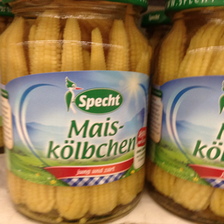corn: (1, 1, 152, 224), (148, 1, 224, 221)
